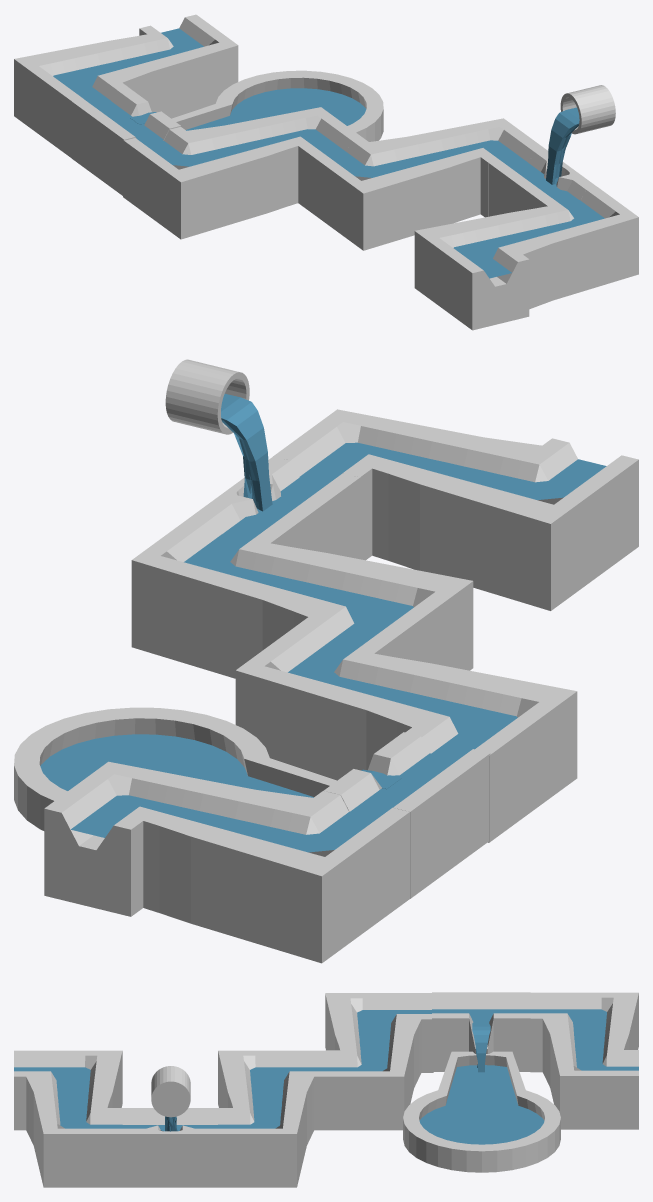
File: flute_section.glb
The picture shows the model from 3 angles, top to bottom: view 1: azimuth 30°, elevation 25°; view 2: azimuth 150°, elevation 25°; view 3: azimuth 270°, elevation 25°; orthographic projection. The views are drawn at different scales.
Parts seen in each view (by area): view 1: section, section_waters; view 2: section, section_waters; view 3: section, section_waters.
Boxes of the visible parts, x1,y1,x2,y2 form: section: [14, 14, 638, 330]; section_waters: [53, 28, 604, 278]; section: [14, 359, 638, 963]; section_waters: [40, 393, 606, 852]; section: [14, 992, 638, 1187]; section_waters: [14, 1009, 638, 1144].
Bounding box in the file's own units: 18.76 × 6.81 × 31.67.
